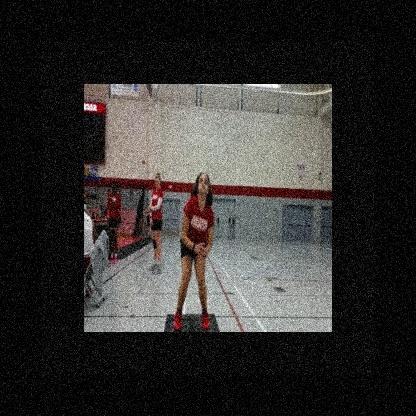lateral_flexion_right: (172, 170, 215, 332)
stance_width_broad: (173, 194, 215, 332)
